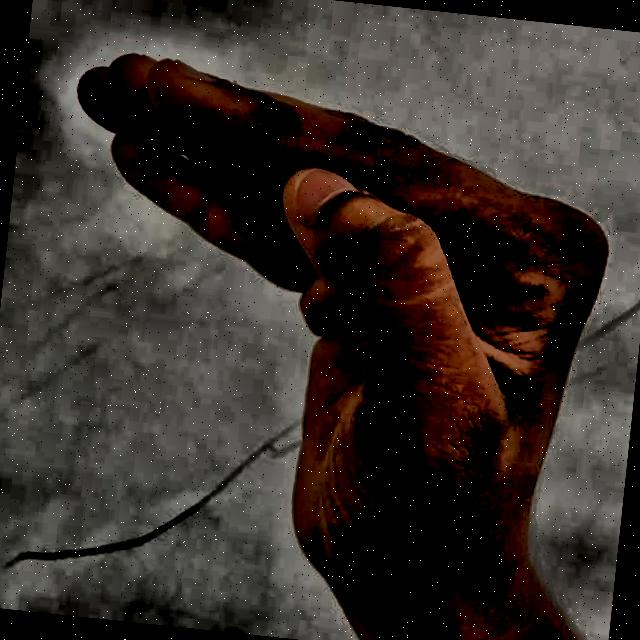Ga: (5, 7, 640, 640)
